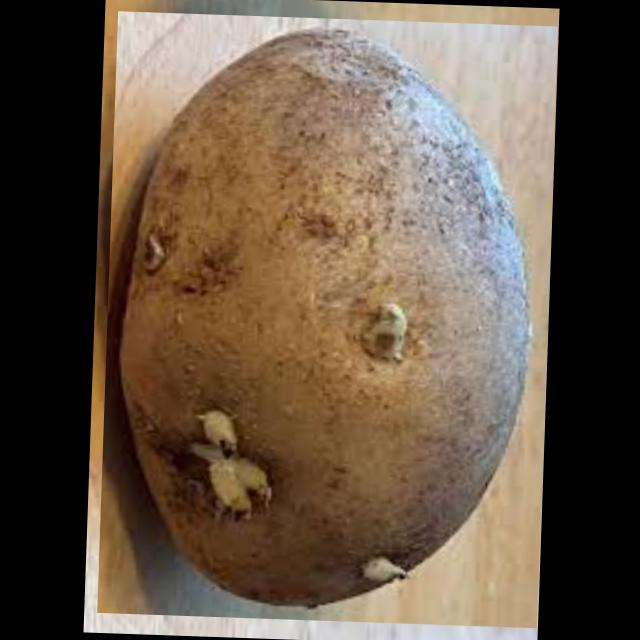Sprouted potato: (96, 10, 556, 628)
